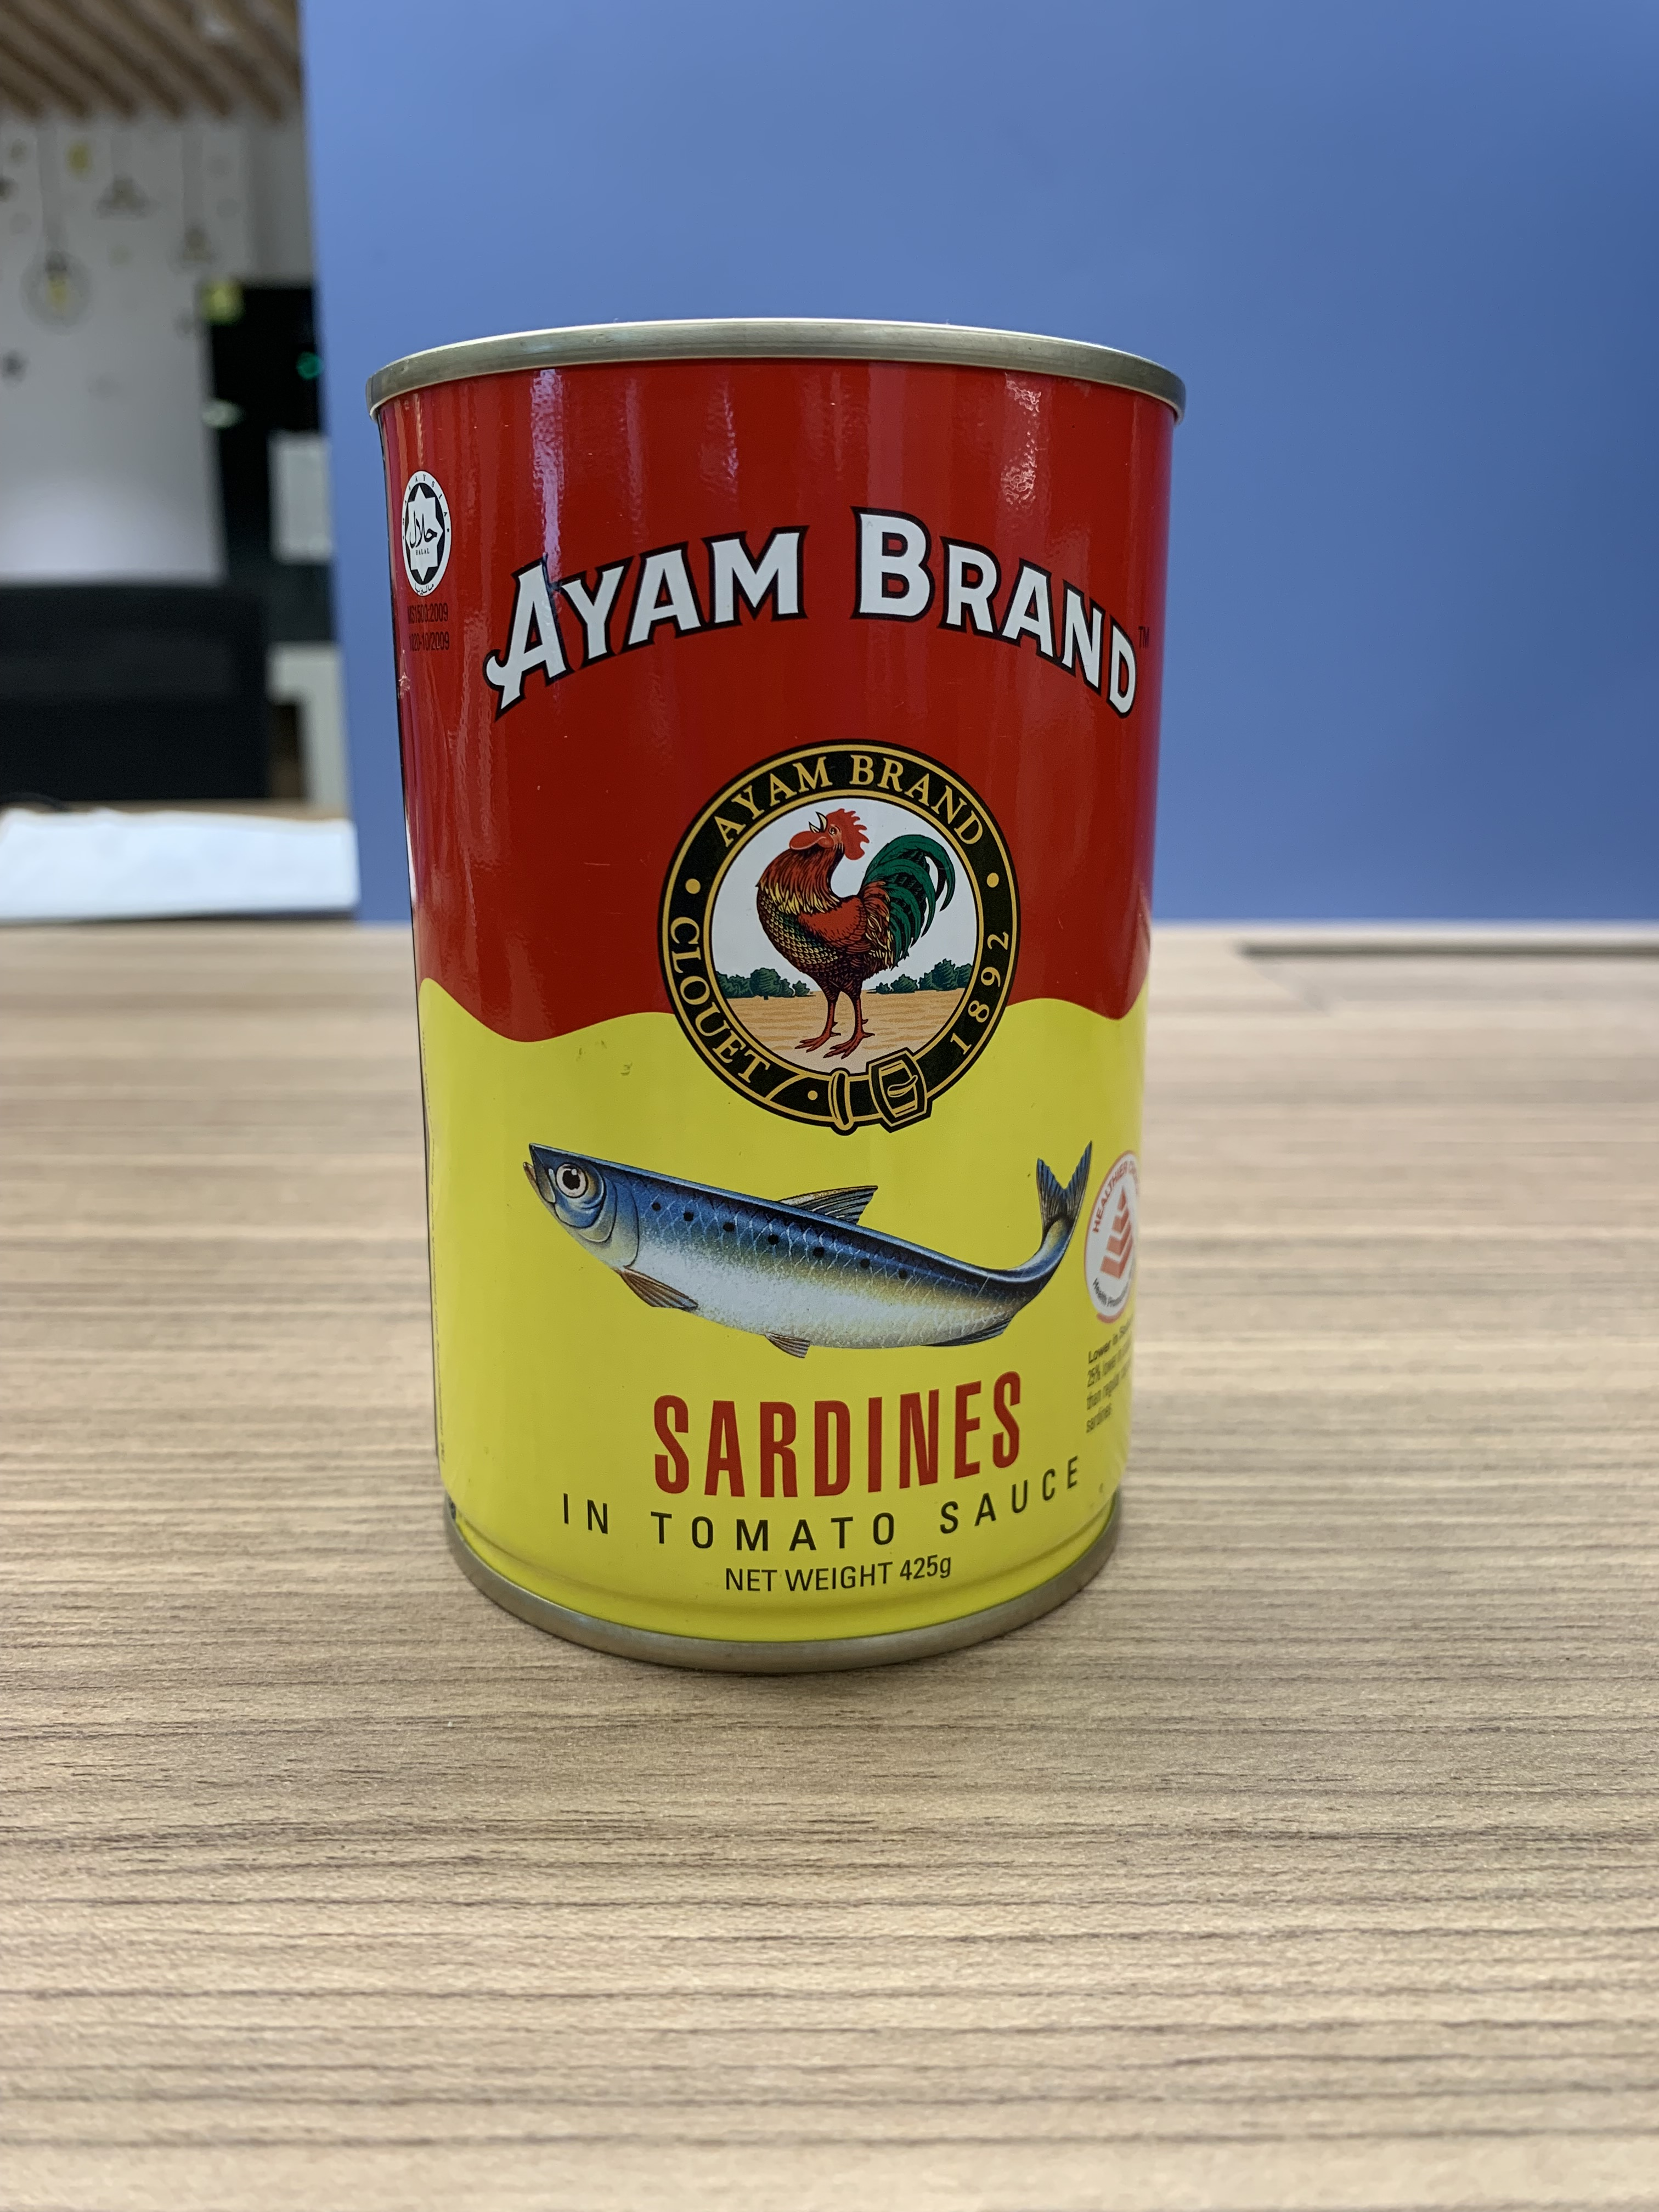sardines_400g-499g: (406, 352, 1126, 1609)
